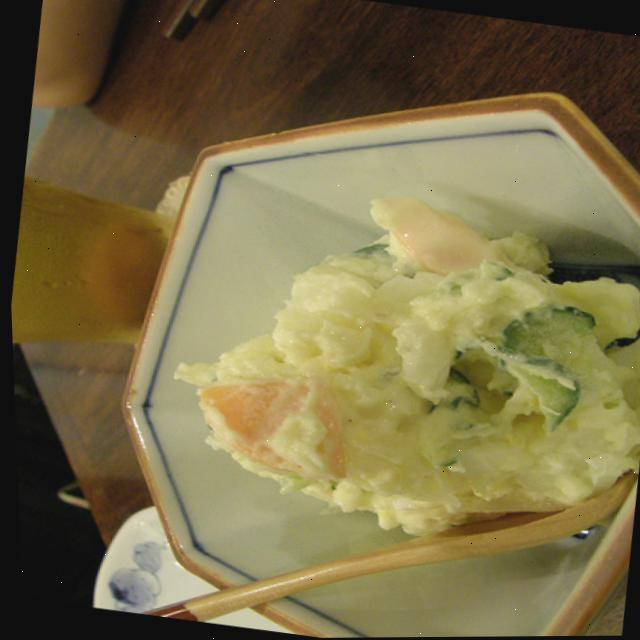蔬菜料理: (64, 31, 640, 640)
